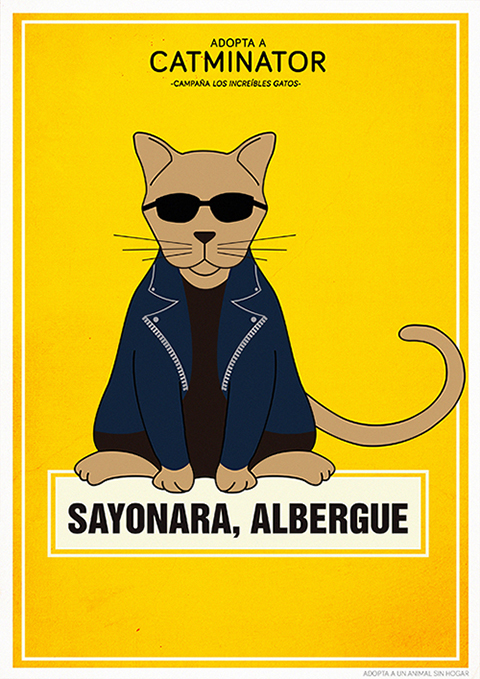cat: (76, 132, 473, 497)
